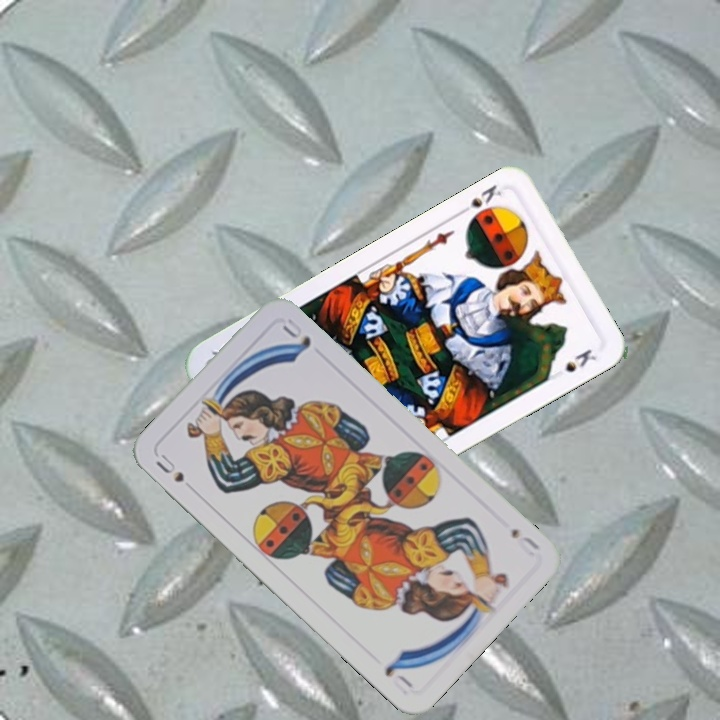SK: (454, 180, 504, 219)
SU: (151, 450, 187, 485), (507, 524, 543, 559)
